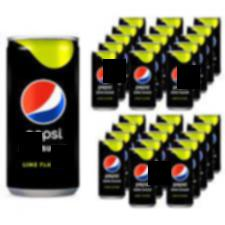pepsi_zero: (5, 32, 83, 200)
